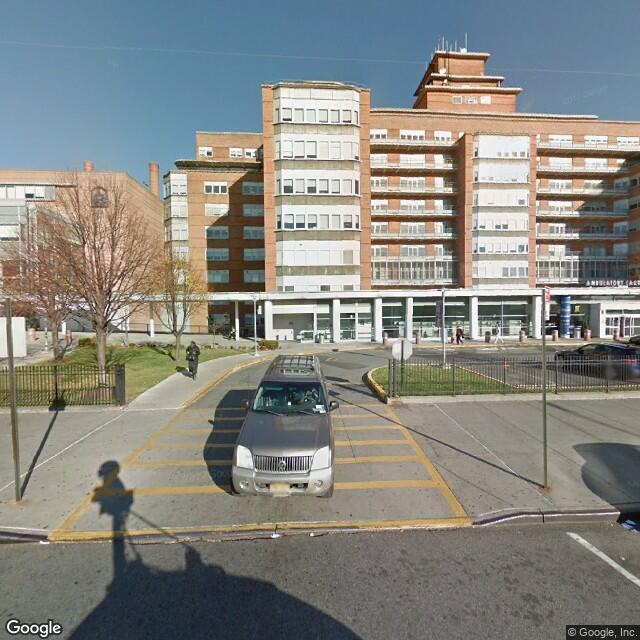litter: (617, 517, 636, 531), (308, 531, 329, 538), (38, 538, 51, 546), (269, 532, 281, 540)
